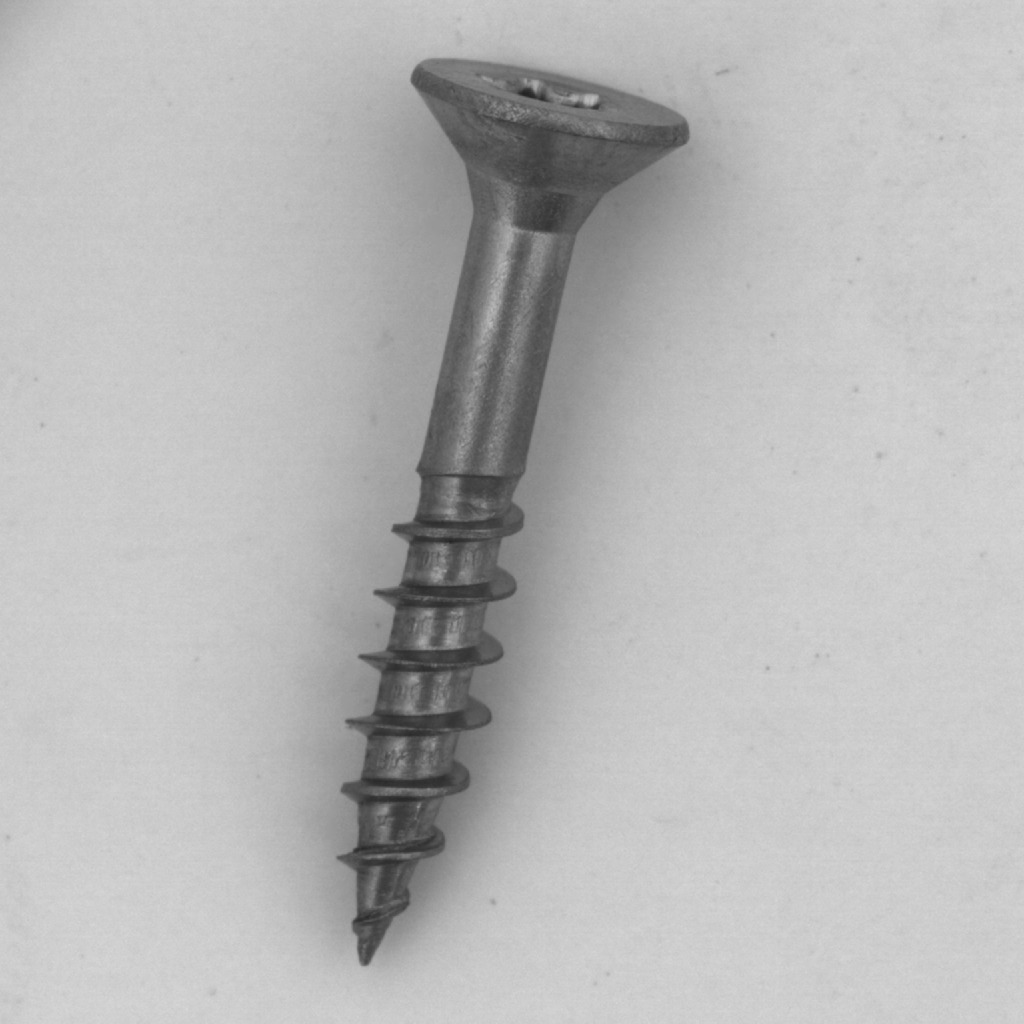good: (317, 43, 737, 981)
